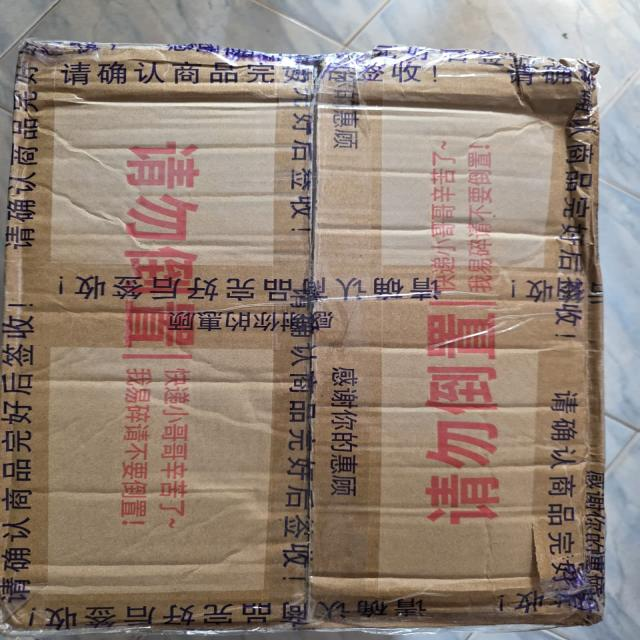carton_box: (7, 26, 628, 640)
package_damage: (494, 43, 622, 285), (280, 264, 351, 580)
